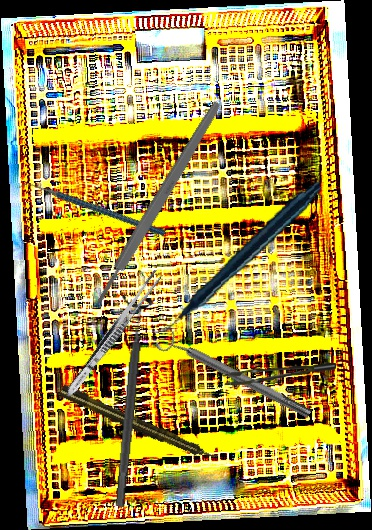Chopper: (15, 141, 167, 280)
Dressing Forceps: (62, 267, 164, 401)
Fixation Ring: (153, 323, 316, 428), (102, 295, 156, 509)
Handpiece: (136, 181, 336, 334), (58, 382, 220, 467)
Scalpel Handle: (90, 98, 225, 308)
Tissue Forceps: (223, 363, 336, 385)
